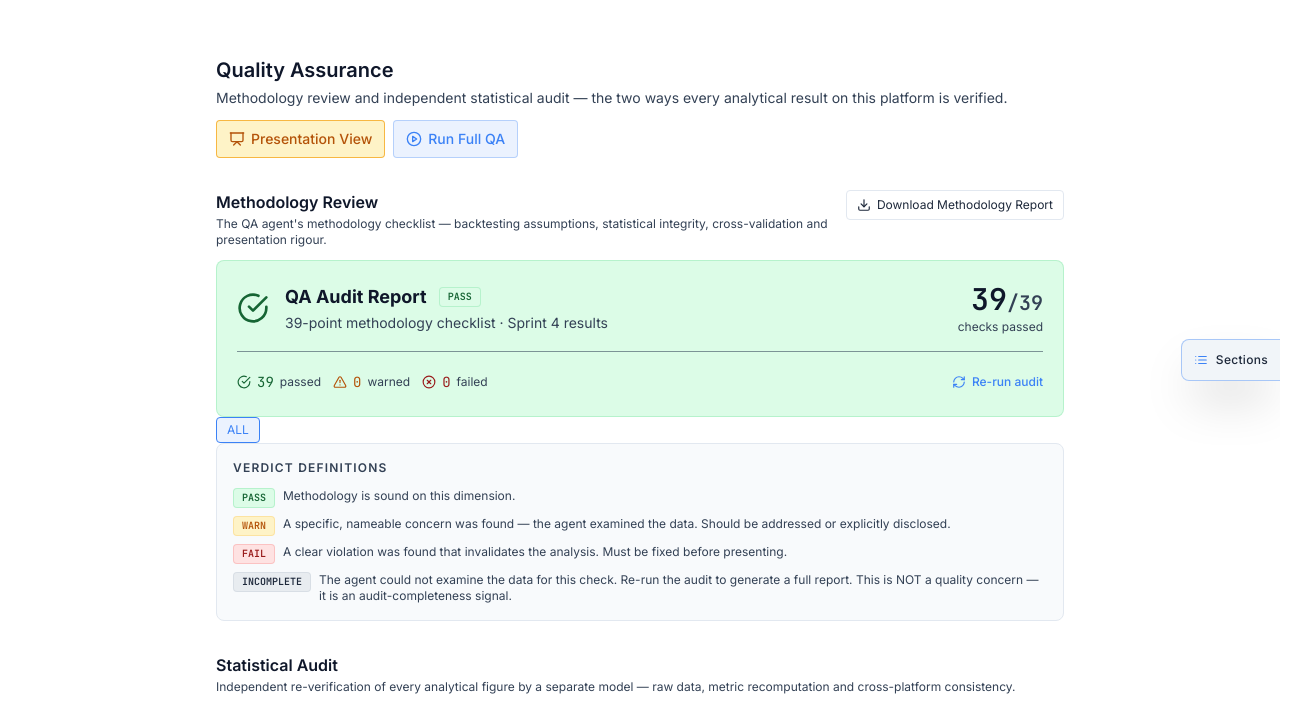
Scenario: QAHub — Presentation View certificate › shows OVERALL FAIL (red) when any check fails
The width and height of the screenshot is (1292, 708).
Click the button "Presentation View" at x=301, y=139, box 216,120 -> 385,158
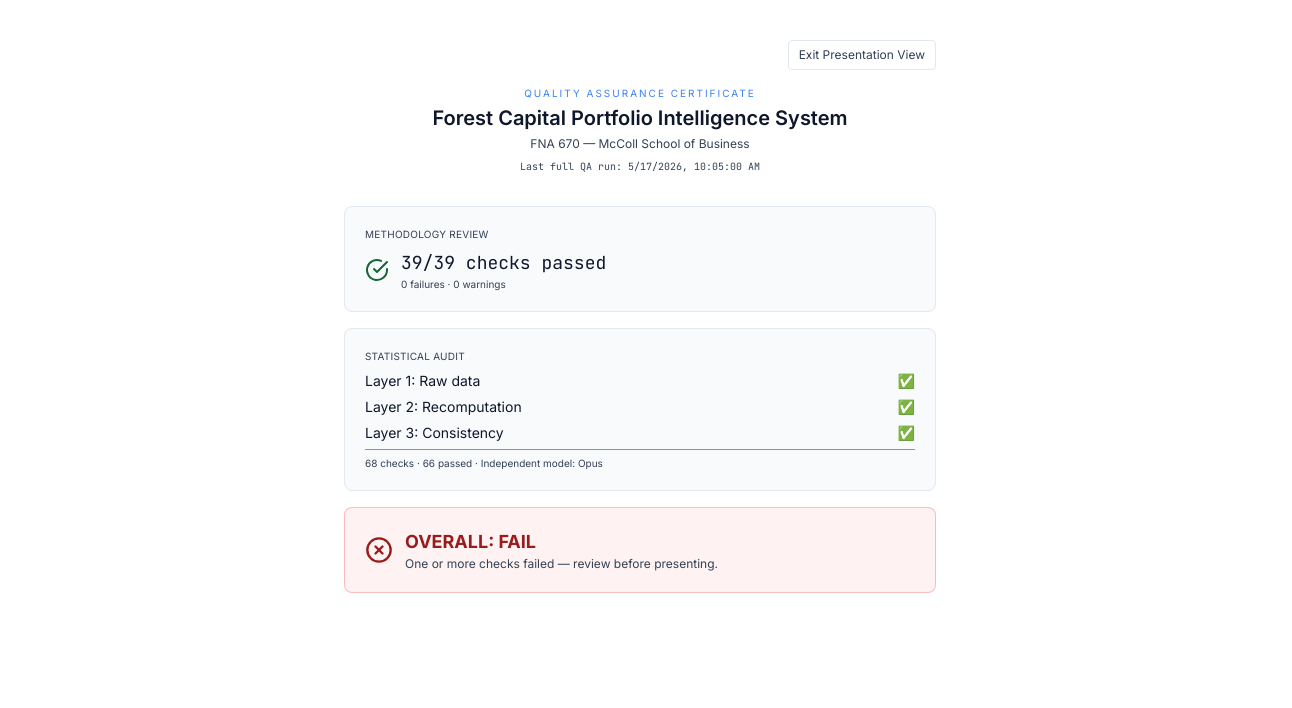
Expected: the text "OVERALL: FAIL" is shown, 405,531 -> 536,552
